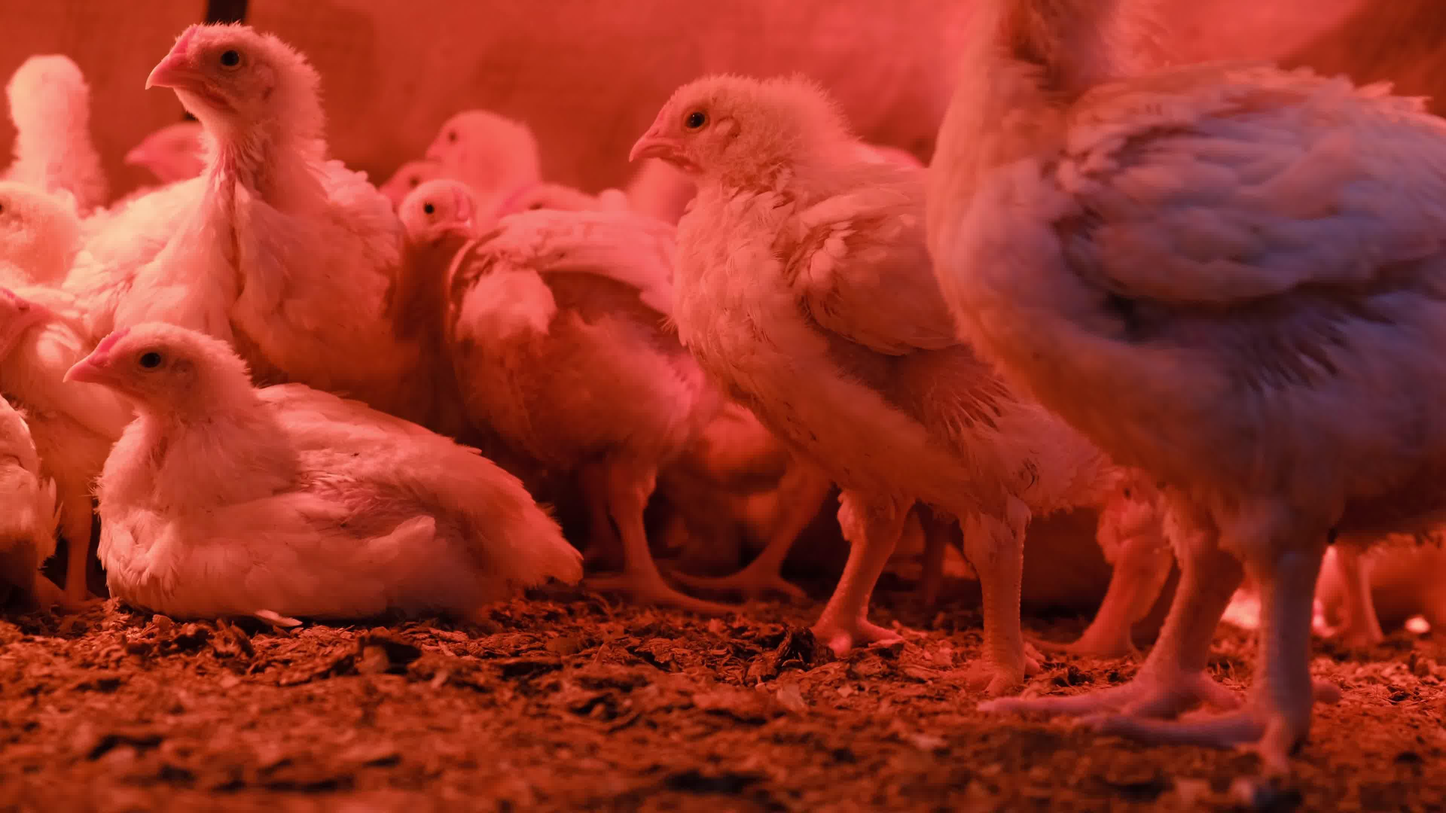AbNormal: (64, 305, 584, 649), (0, 262, 105, 621)
Normal: (960, 0, 1446, 770), (606, 56, 1075, 693), (109, 8, 426, 346), (386, 90, 574, 231), (81, 94, 230, 220), (373, 156, 510, 290), (4, 32, 113, 175), (0, 132, 92, 290)
